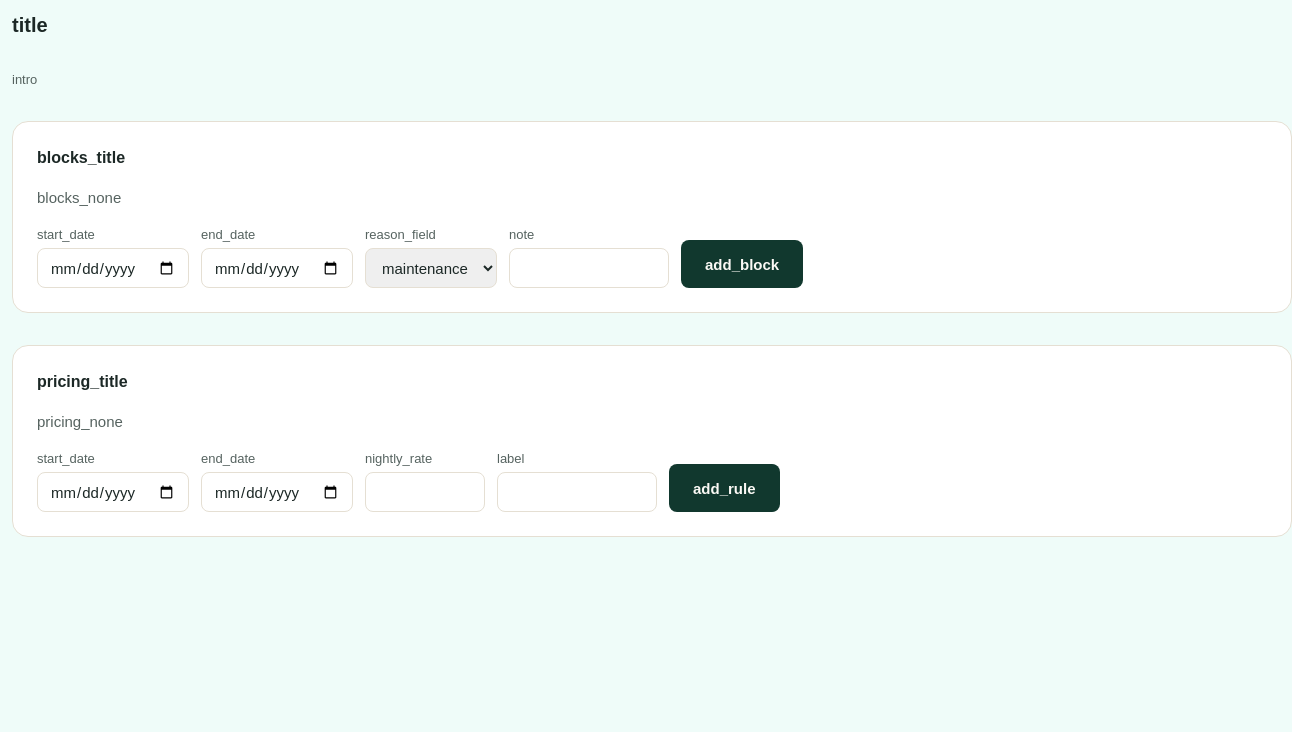
Test case: manual price form completion › resets the captured form after confirmed asynchronous success
Expected: the button "add_rule" is shown, [669,464,780,512]
Type "2026-11-01" into the date field labelled "start_date" below "nightly_rate" at x=113, y=492, box [37,472,189,512]
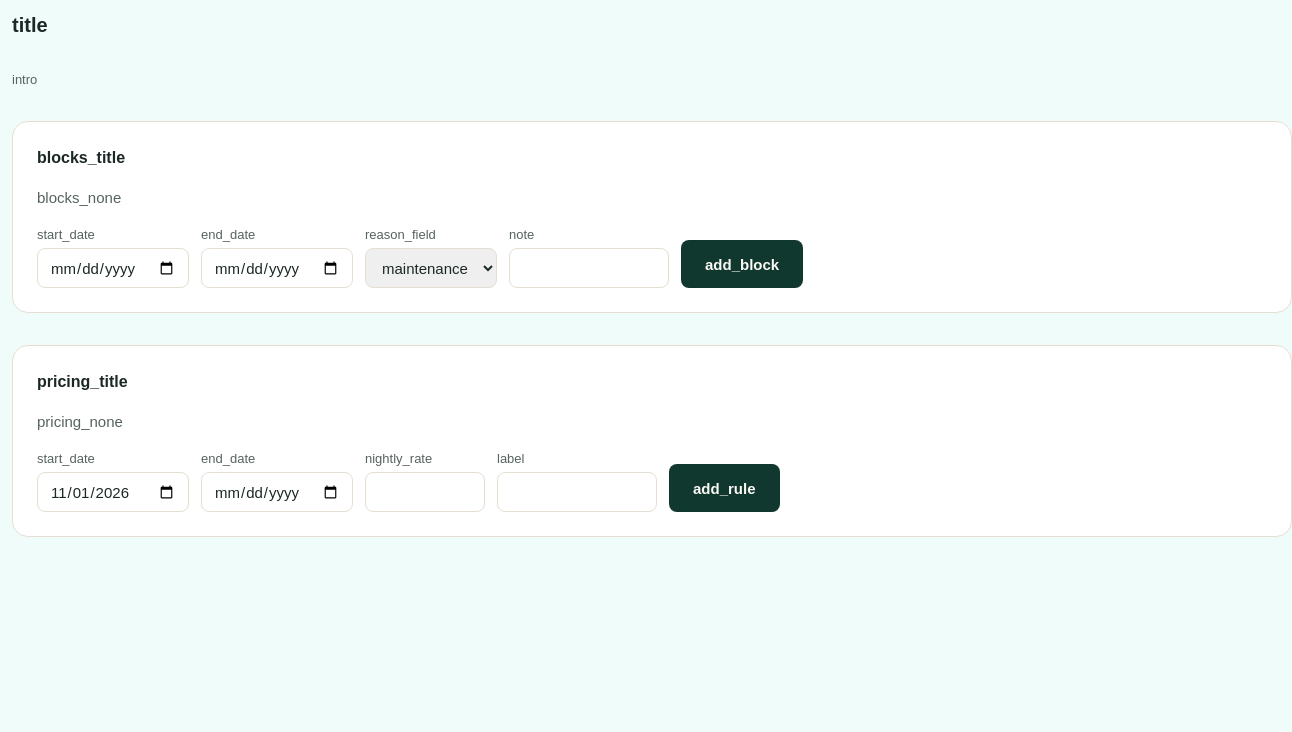
Type "2026-11-10" into the date field labelled "end_date" below "nightly_rate" at x=277, y=492, box [201,472,353,512]
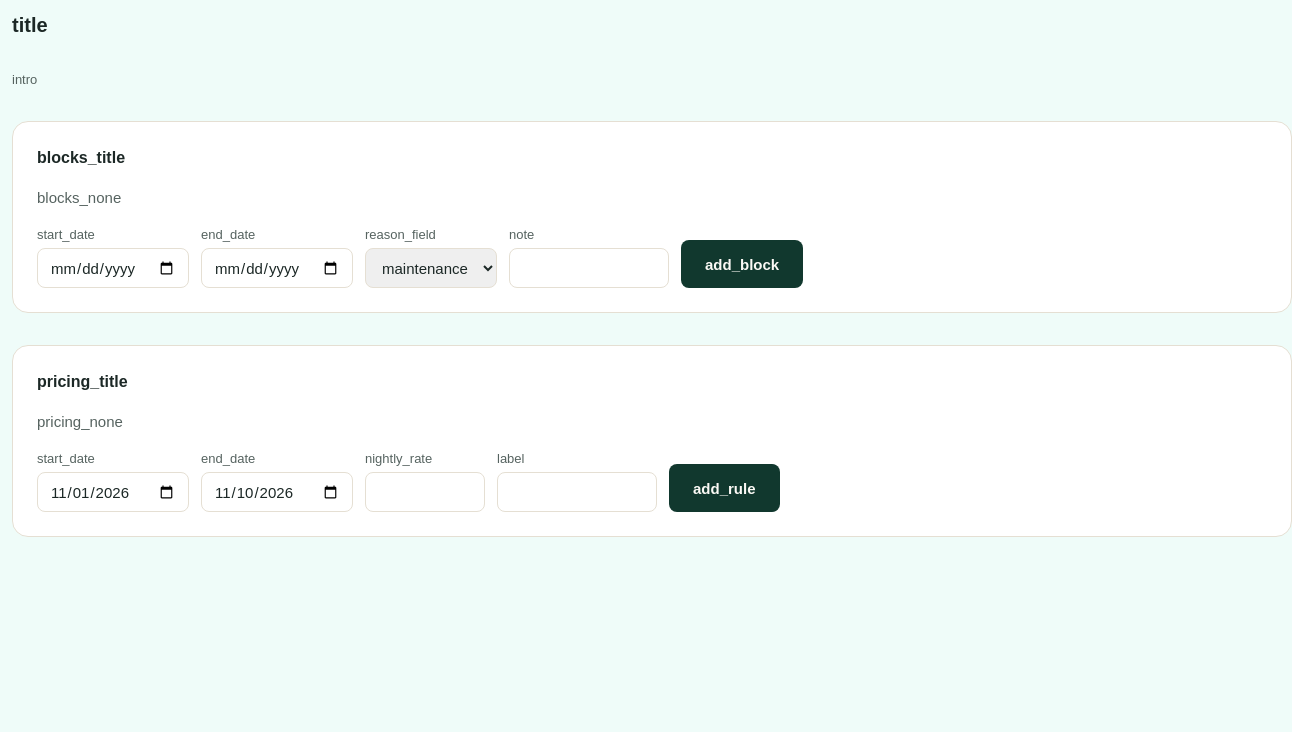
Type "6500" into the number field labelled "nightly_rate" at x=425, y=492, box [365,472,485,512]
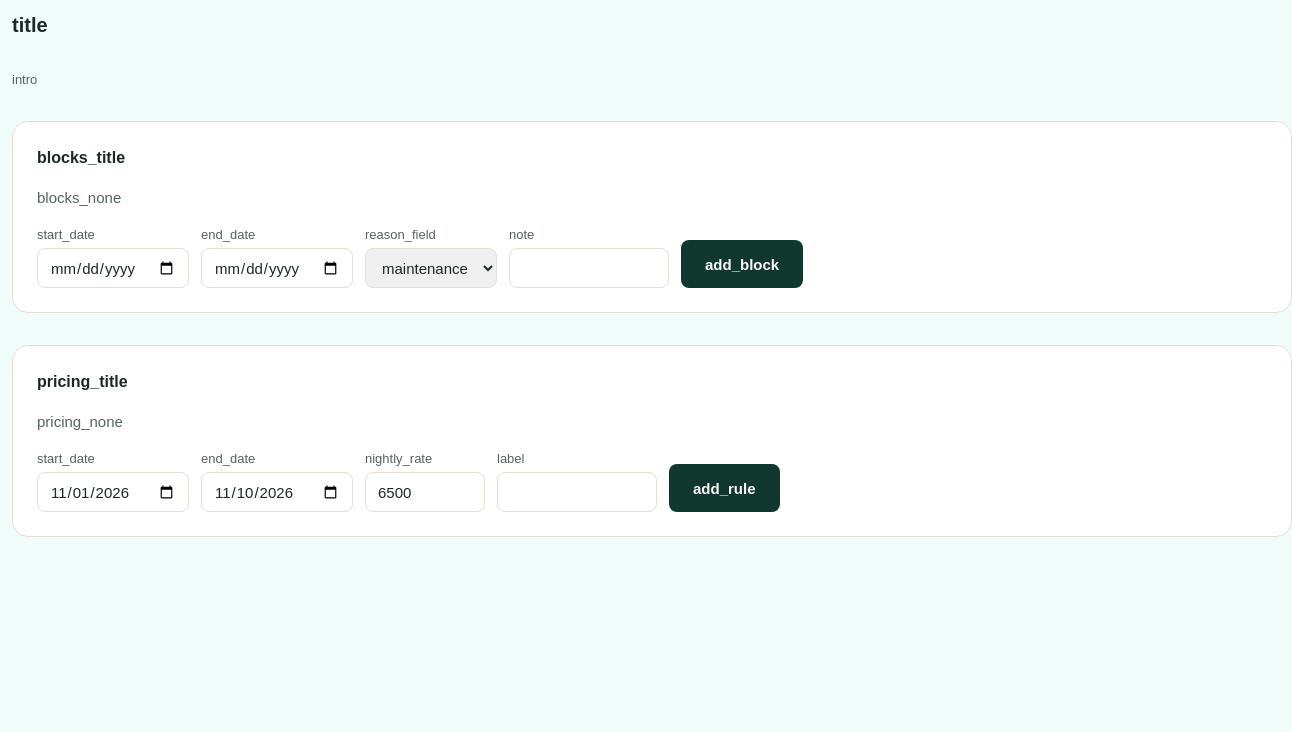
Submit the form "add_rule", box [37,451,780,512]
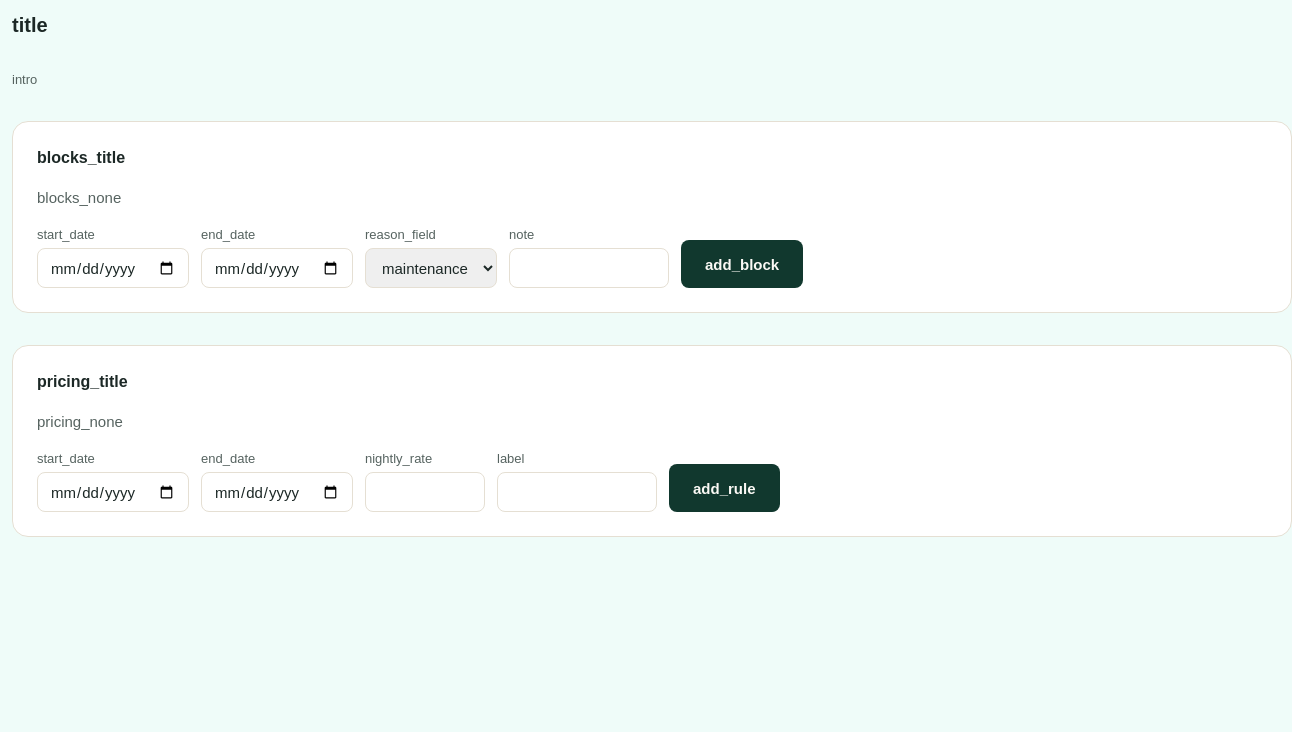
Result: the date field labelled "start_date" below "nightly_rate" is empty at [37,472,189,512]
Result: the number field labelled "nightly_rate" is not empty at [365,472,485,512]
